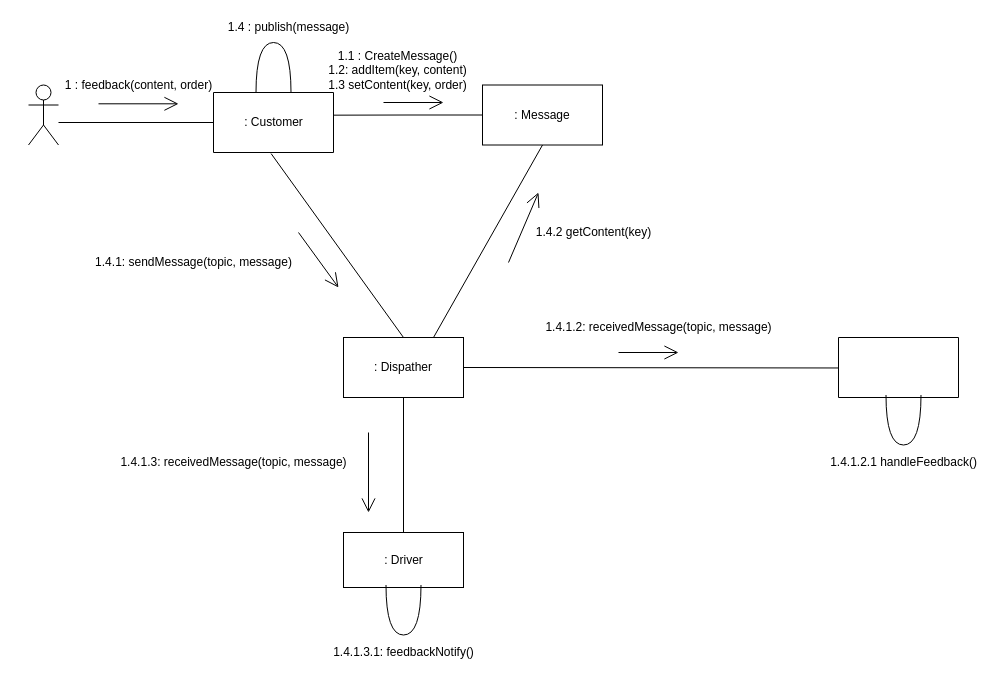
Some shapes in this 1001 by 679 pixel diagram are drawn without their labels. Each missing label, with the centre of its shape:
": Shop" goes at point 898,367.
"Customer" goes at point 43,114.
